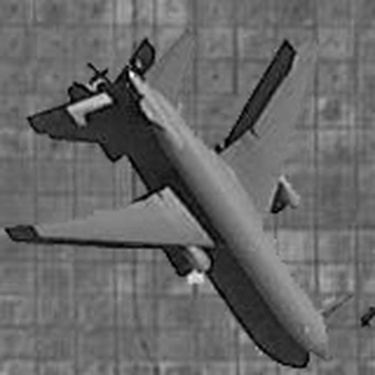airplane: (23, 13, 342, 365)
